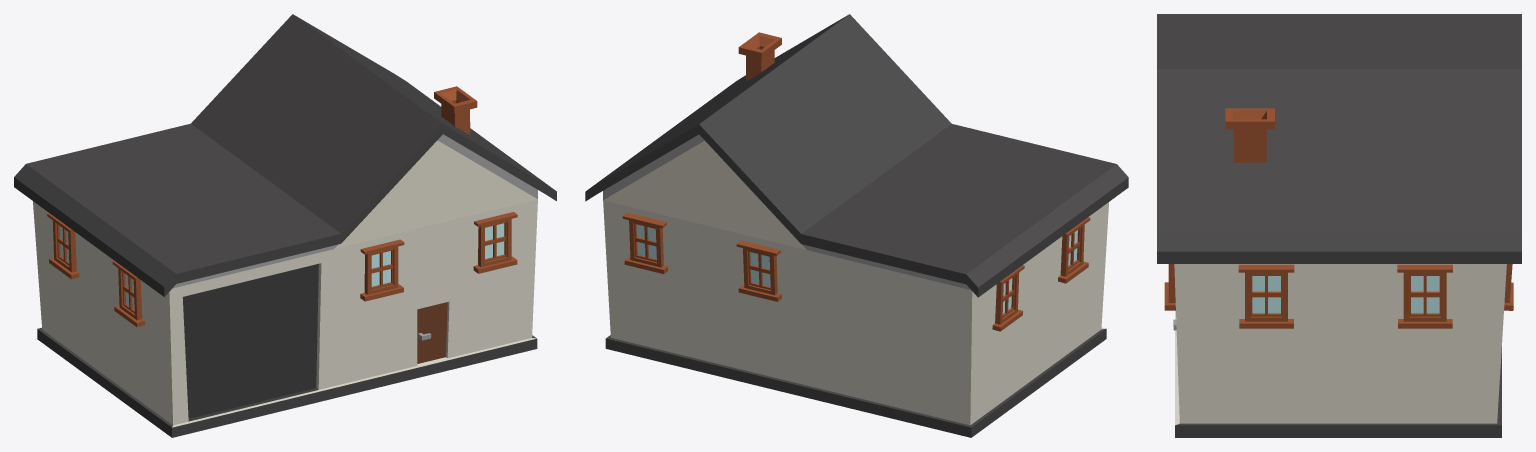
Rendered from House4.glb.
The picture shows the model from 3 angles, left to right: view 1: azimuth 30°, elevation 25°; view 2: azimuth 150°, elevation 25°; view 3: azimuth 270°, elevation 25°; orthographic projection. The views are drawn at different scales.
Parts seen in each view (by area): view 1: House4; view 2: House4; view 3: House4.
Part boxes in pixels (x1,y1,x2,y2): House4: (14, 14, 556, 437); House4: (585, 14, 1128, 437); House4: (1157, 14, 1521, 437).
Size of the model in its own units: 2.16 by 1.34 by 1.44.
